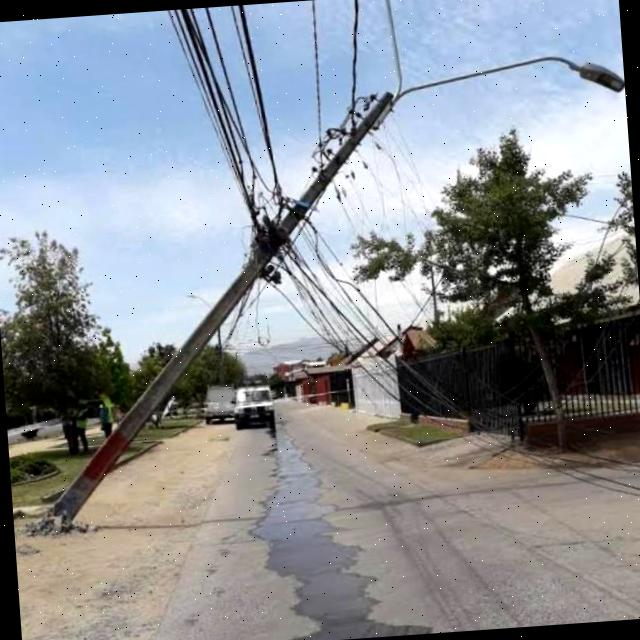Broken Pole: (47, 51, 624, 515)
